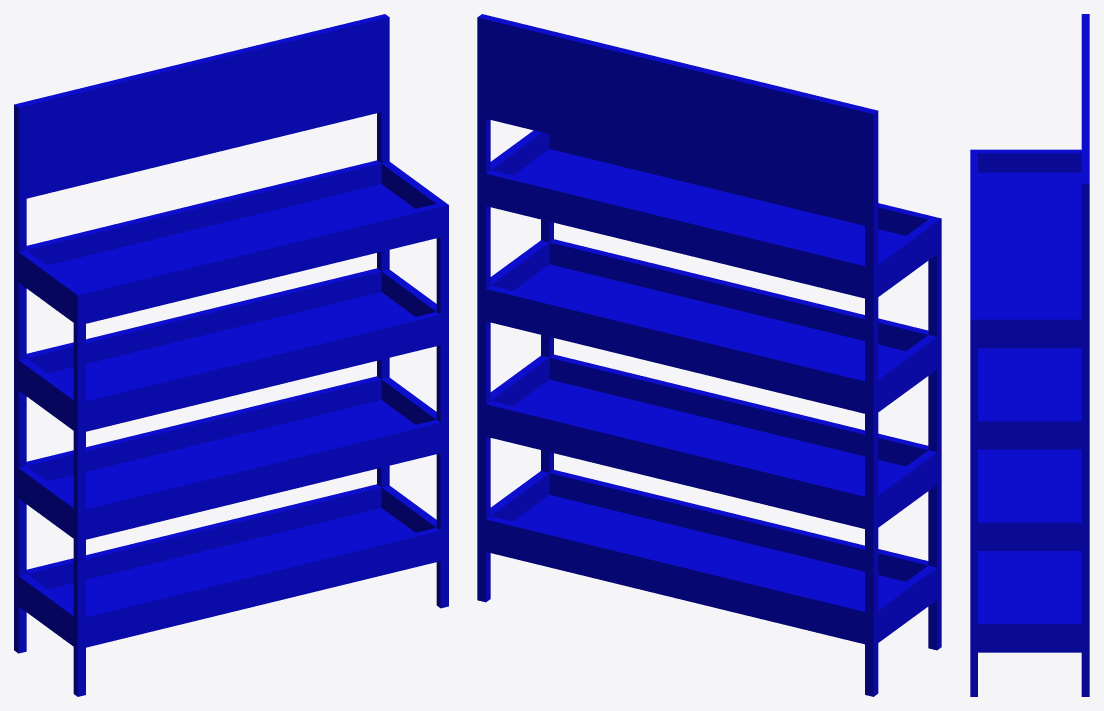
Rendered from Estante 1.fbx.
3 renders of one model, left to right at view 1: azimuth 30°, elevation 25°; view 2: azimuth 150°, elevation 25°; view 3: azimuth 270°, elevation 25°, orthographic. The views are drawn at different scales.
Parts seen in each view (by area): view 1: Box021; view 2: Box021; view 3: Box021.
Part boxes in pixels (<box>): Box021: <box>14,14,448,696</box>; Box021: <box>477,14,941,696</box>; Box021: <box>970,14,1089,696</box>.
Size of the model in its own units: 24.2 by 34.02 by 7.19.
